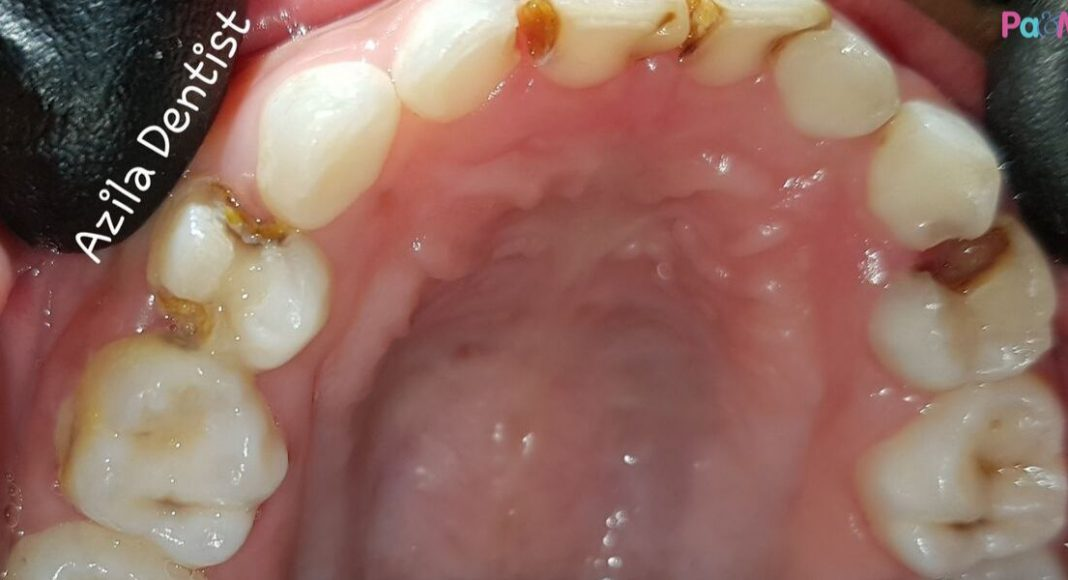UL1BC_decay: (869, 230, 1054, 384)
UL2BC_decay: (873, 378, 1064, 567)
ULCI_decay: (687, 1, 826, 84)
ULC_healthy: (875, 102, 994, 236)
ULLI_decay: (769, 23, 897, 140)
UR1BC_decay: (144, 182, 328, 363)
UR2BC_decay: (62, 354, 288, 566)
URCI_decay: (521, 1, 687, 85)
URC_healthy: (259, 62, 397, 227)
URLI_healthy: (397, 4, 513, 121)
